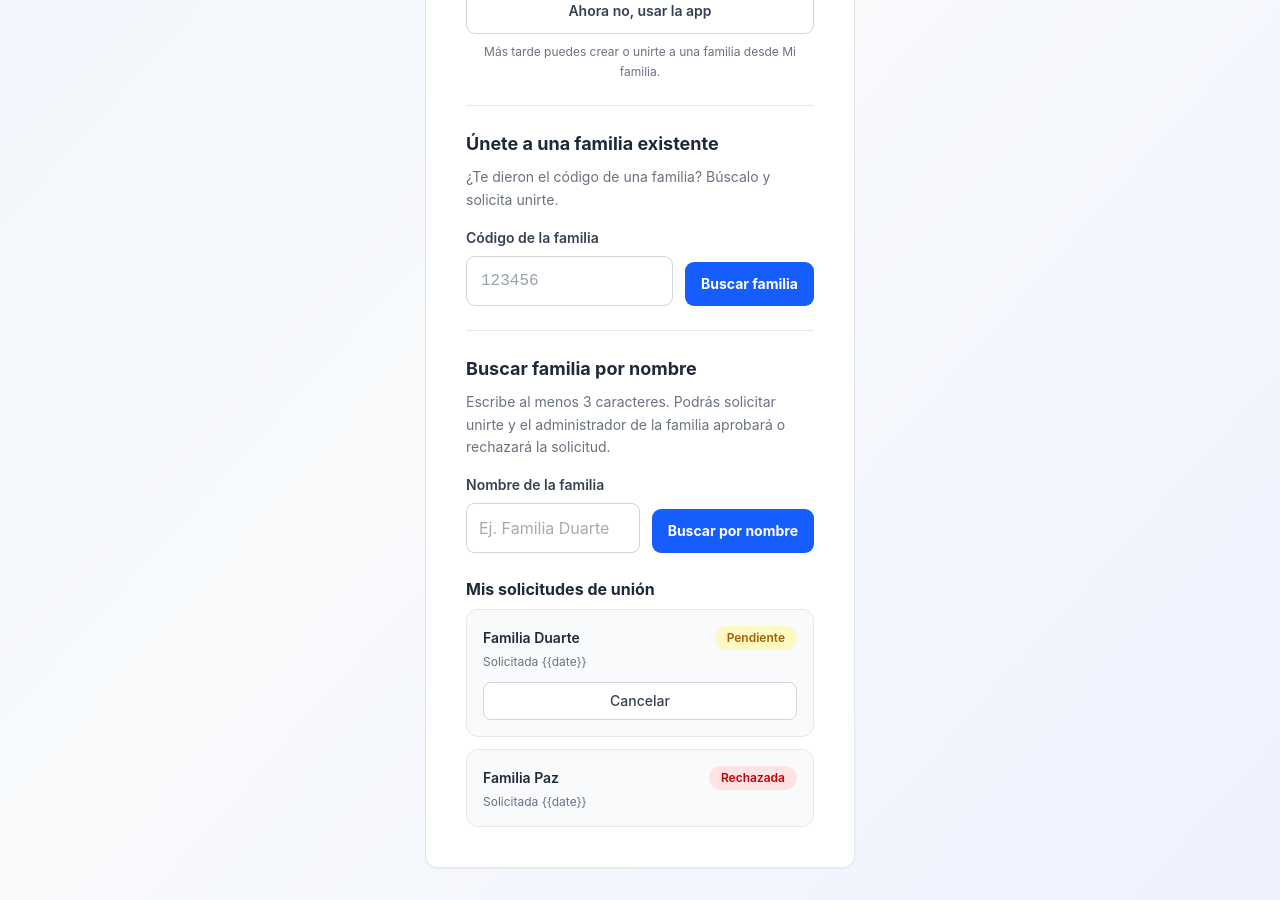
Test: HogarPendiente › lista las solicitudes propias y cancela una pendiente
The width and height of the screenshot is (1280, 900).
(page scrolled)
Expected: the text "Familia Duarte" is shown, [483,628,580,648]
Expected: the text "Familia Paz" is shown, [483,768,559,788]
Click the button "Cancelar" at {"x": 640, "y": 701}, box [483,682,797,720]
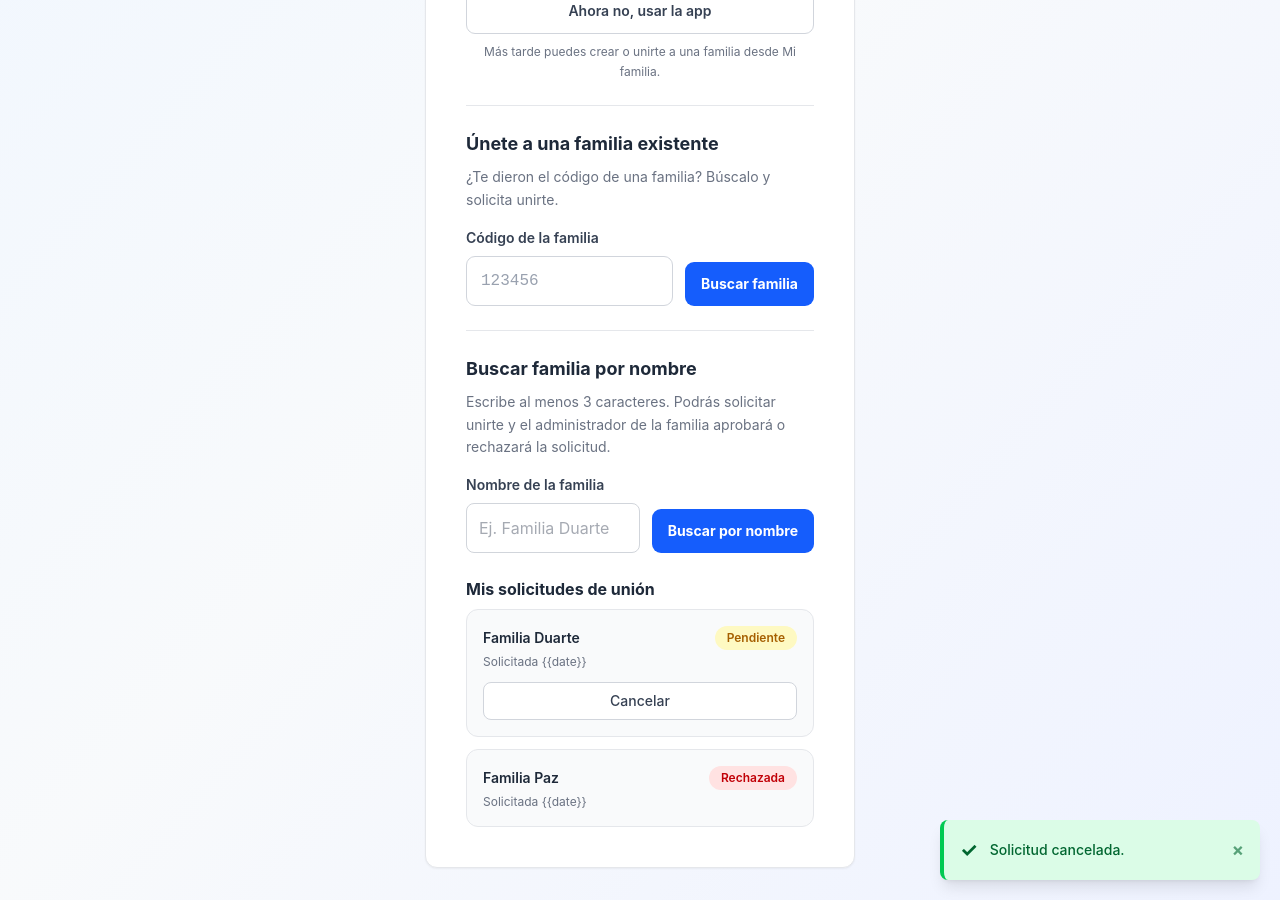
Expected: the text "Solicitud cancelada." is shown, [990,841,1125,858]
